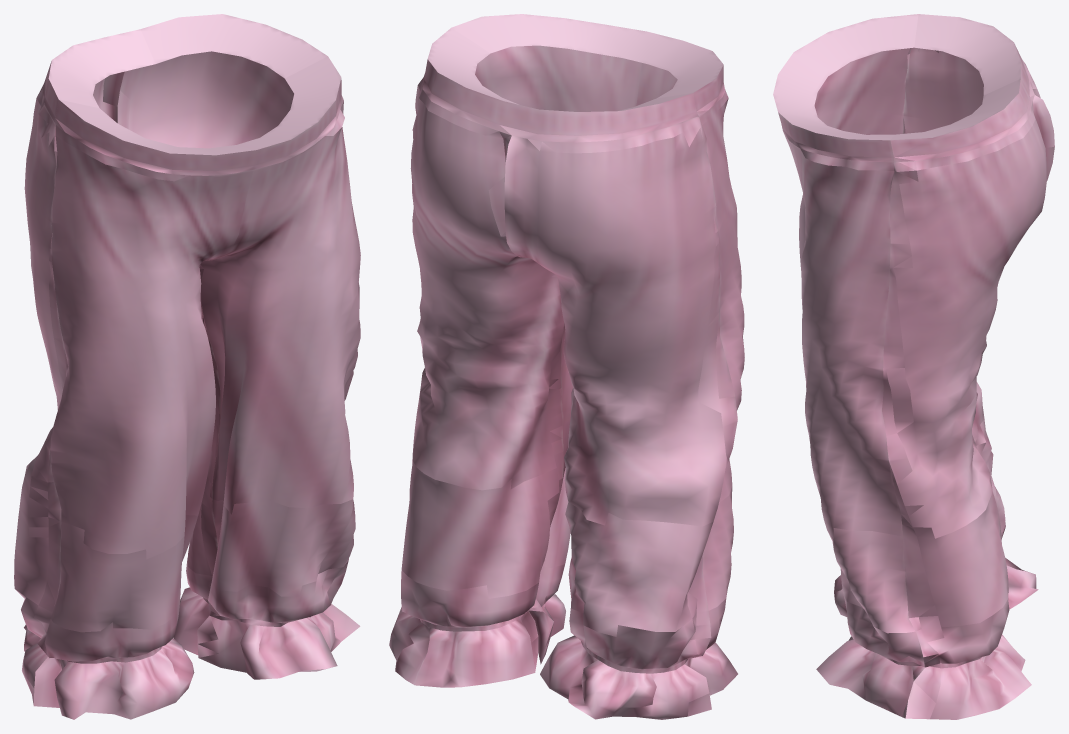
File: bottom12.glb
3 renders of one model, left to right at view 1: azimuth 30°, elevation 25°; view 2: azimuth 150°, elevation 25°; view 3: azimuth 270°, elevation 25°, orthographic. The views are drawn at different scales.
Visible parts, largest first — view 1: s4studio_mesh_1; view 2: s4studio_mesh_1; view 3: s4studio_mesh_1.
Boxes of the visible parts, <box> form: s4studio_mesh_1: <box>14,14,360,719</box>; s4studio_mesh_1: <box>389,14,744,719</box>; s4studio_mesh_1: <box>773,14,1054,719</box>.
Size of the model in its own units: 0.247 by 0.4424 by 0.1944.
Materials: 1 (1 with a texture image).
